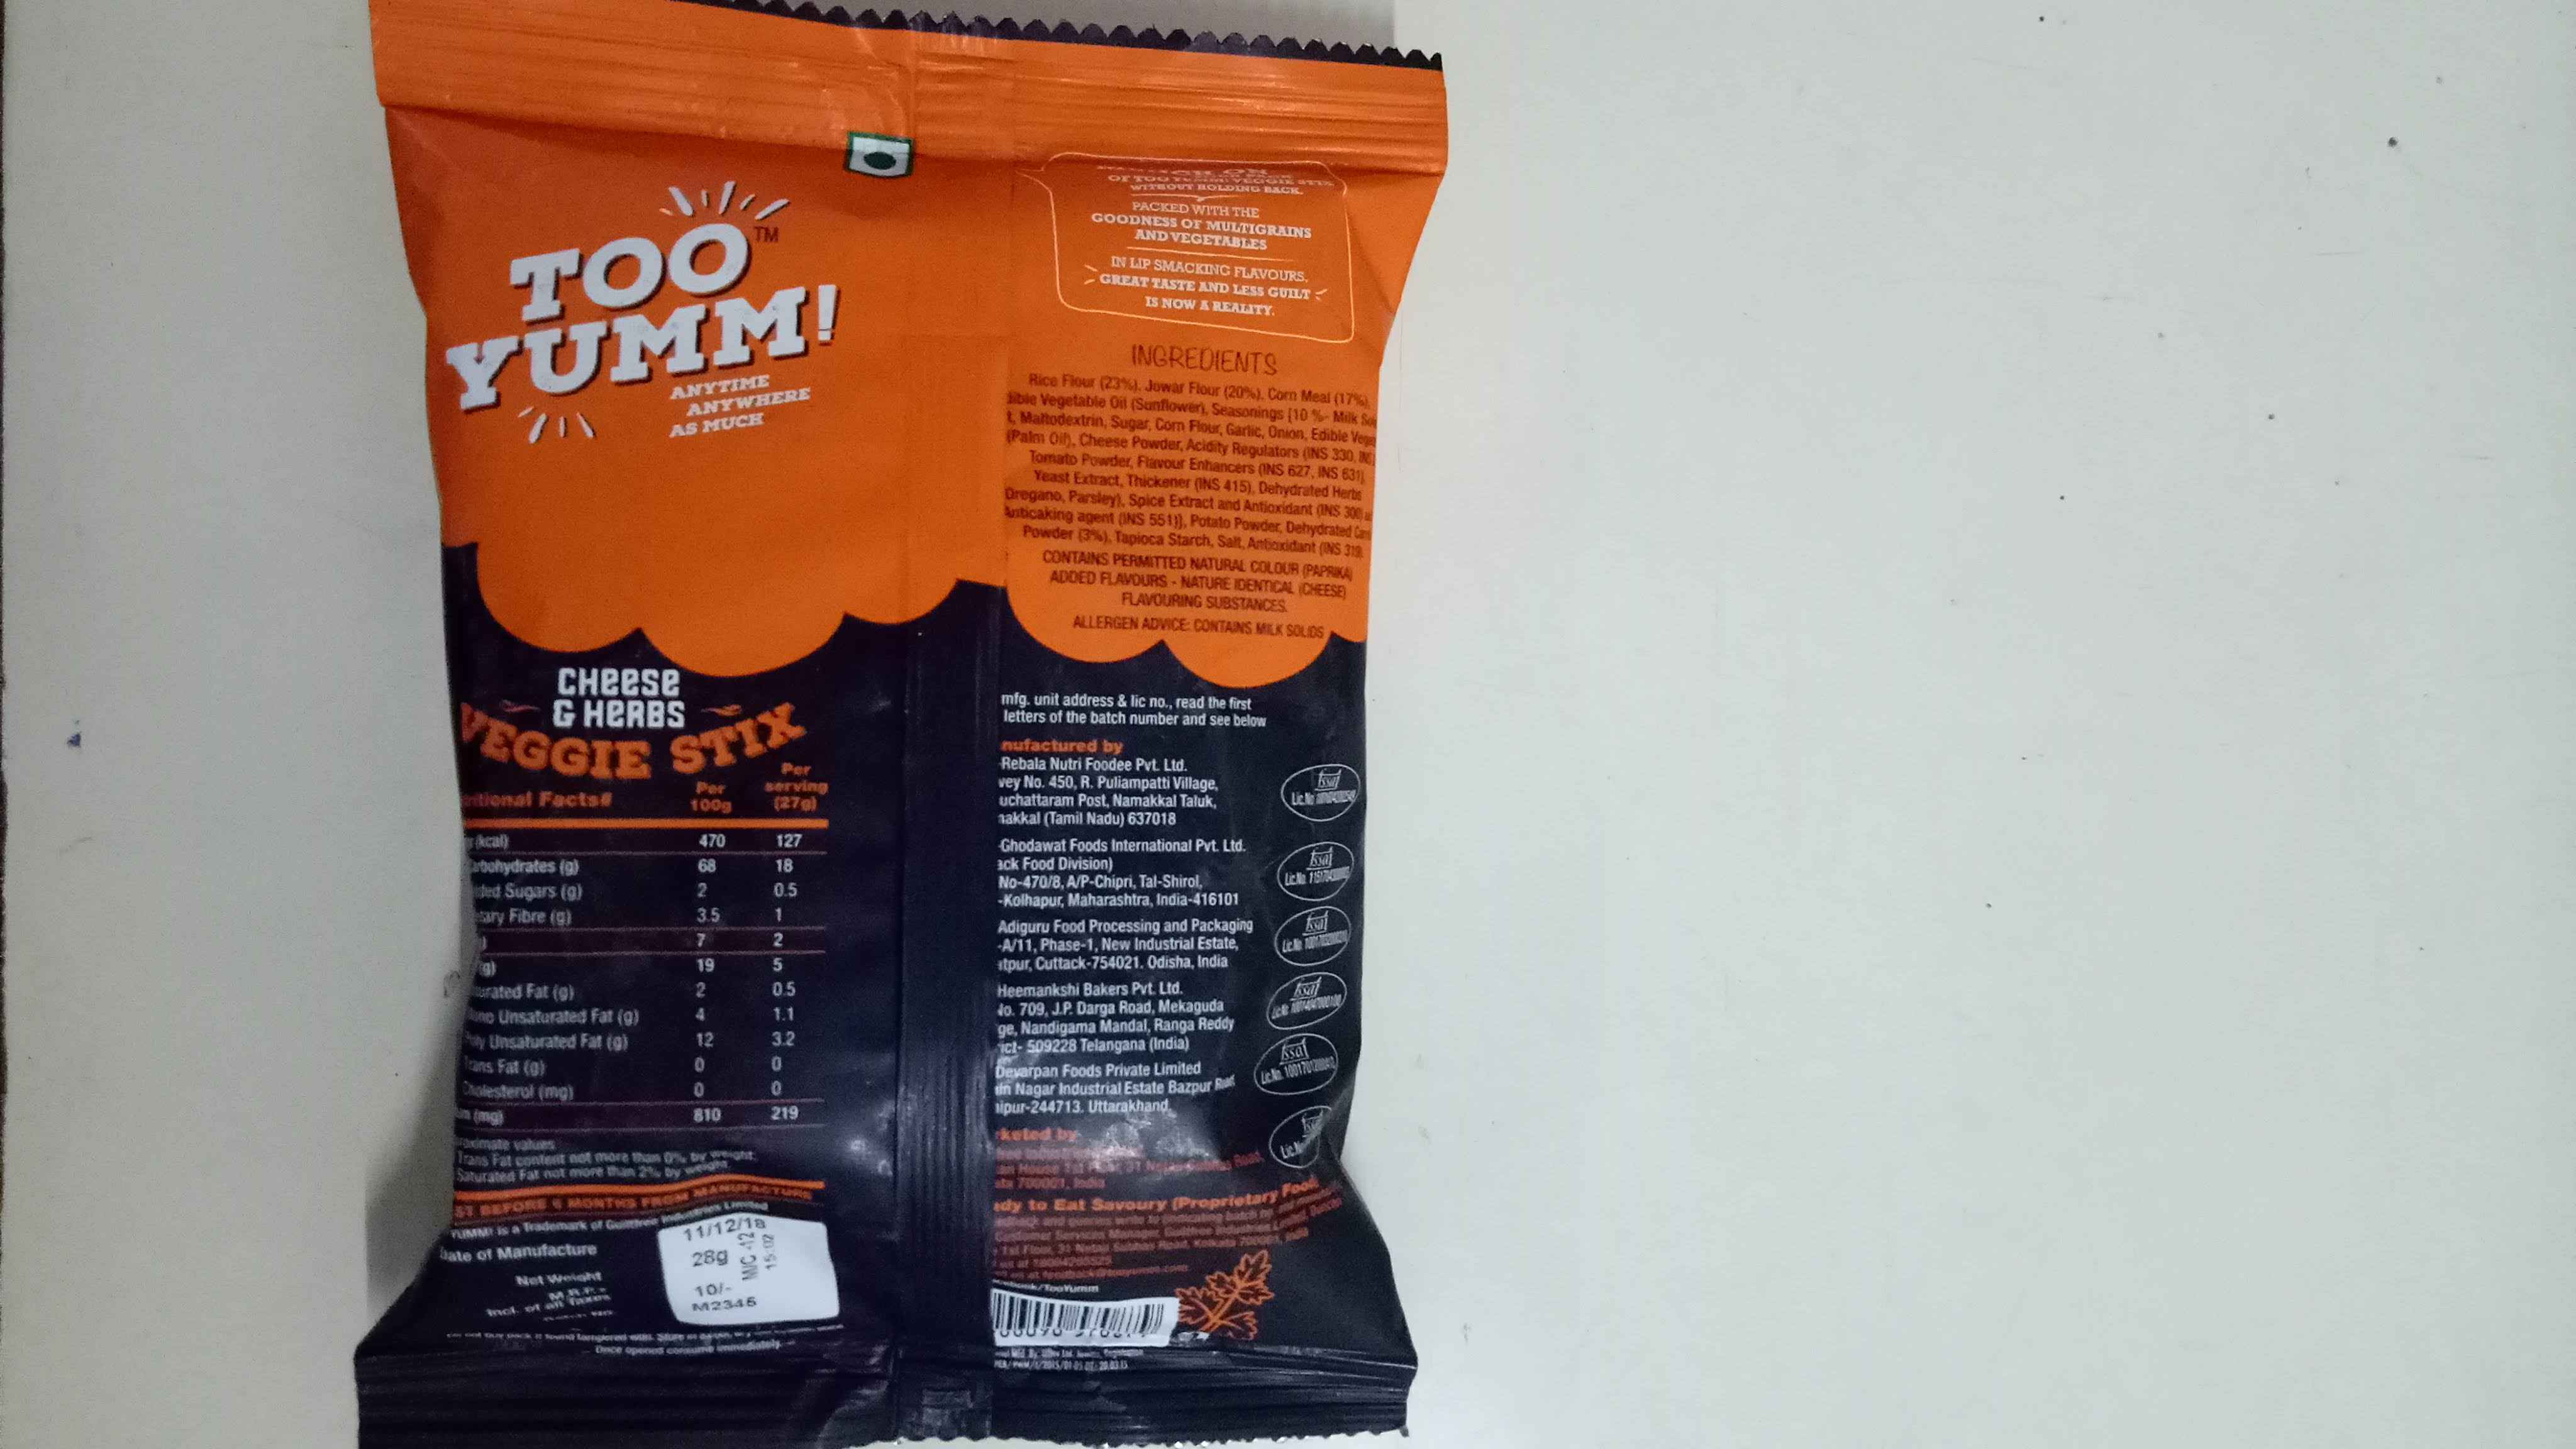tooyumm: (433, 180, 860, 414)
